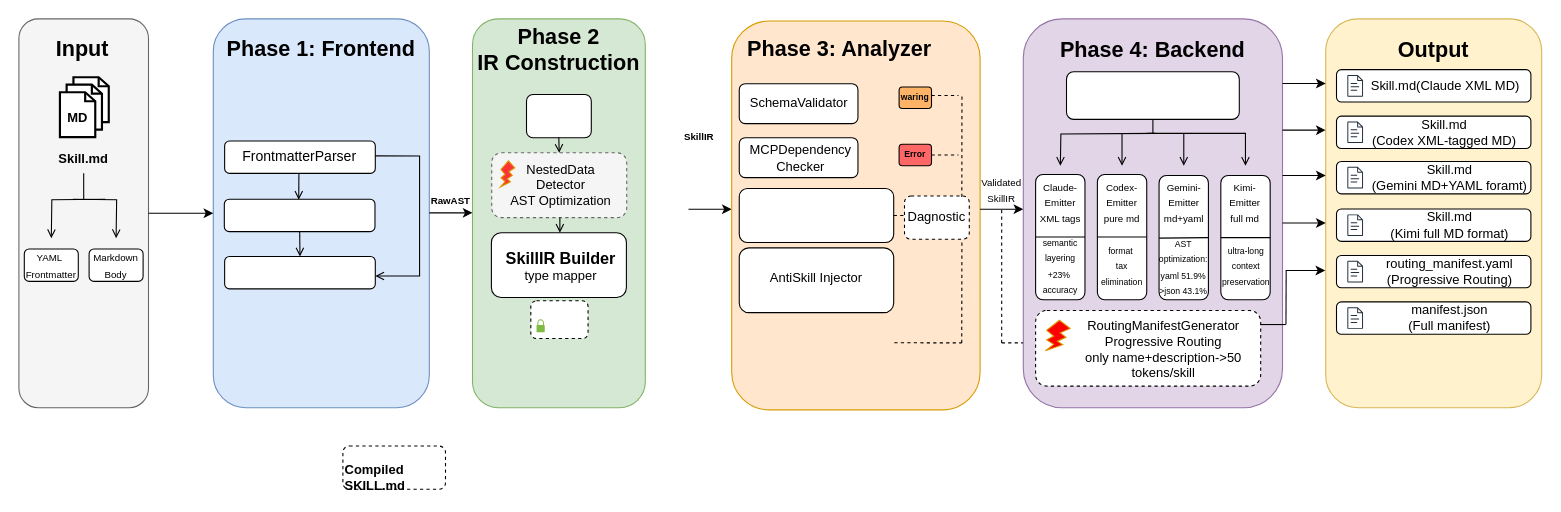
This 1561x512 diagram has some shape labels left out. Here are the shapes that lost their labels. From the top down, the centre of each, then its label:
At pixel 558 115: "Type Mapper".
At pixel 1152 95: "EmitterRegistry".
At pixel 299 215: "MarkdownParser".
At pixel 816 214: "Permission Auditor".
At pixel 299 272: "ASTBuilder".
At pixel 559 319: "Security level".
